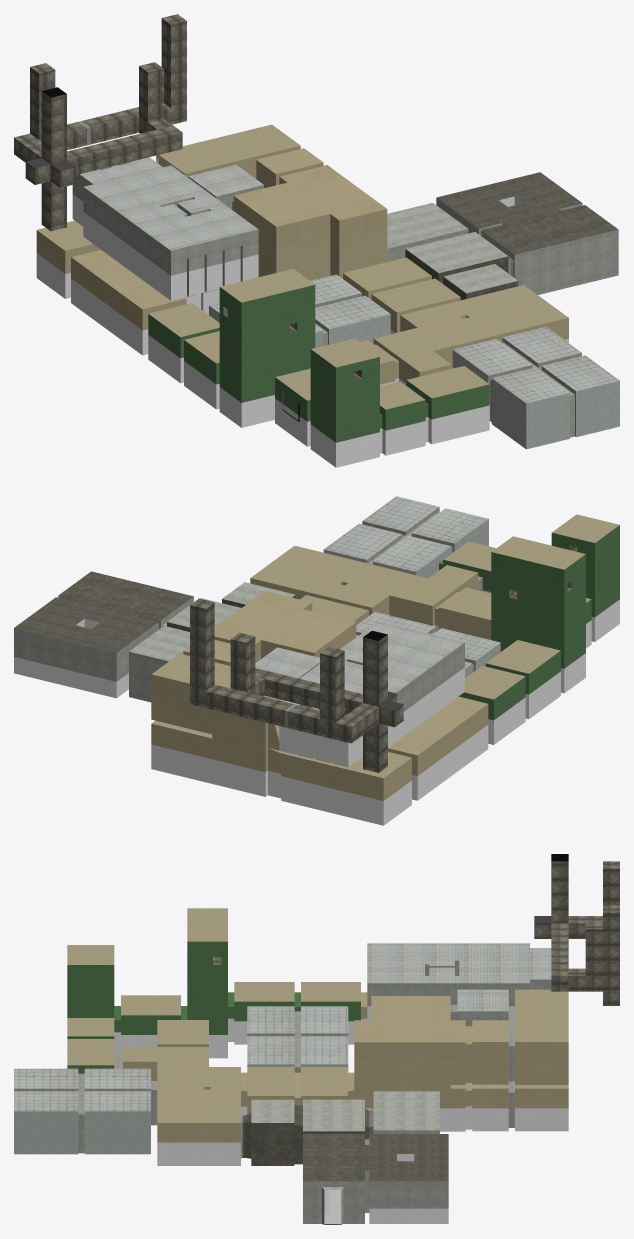
File: Map.FBX
The picture shows the model from 3 angles, top to bottom: view 1: azimuth 30°, elevation 25°; view 2: azimuth 150°, elevation 25°; view 3: azimuth 270°, elevation 25°; orthographic projection. The views are drawn at different scales.
Parts seen in each view (by area): view 1: VIFS017, VIFS408, VIFS030, VIFS449, VIFS546, VIFS485, VIFS422, VIFS029, VIFS624, tileswall, VIFS661, VIFS163 (+36 smaller); view 2: VIFS162, VIFS546, VIFS408, VIFS159, VIFS449, VIFS485, VIFS017, VIFS030, VIFS661, tileswall, VIFS306, VIFS660 (+32 smaller); view 3: VIFS017, VIFS030, Object003, VIFS449, VIFS485, VIFS529, VIFS546, VIFS408, VIFS661, VIFS162, VIFS625, VIFS163 (+36 smaller).
Boxes of the visible parts, bbox=[...] form: VIFS017: bbox=[233, 165, 387, 280]; VIFS408: bbox=[219, 285, 315, 402]; VIFS030: bbox=[80, 157, 258, 250]; VIFS449: bbox=[374, 285, 568, 356]; VIFS546: bbox=[14, 18, 186, 162]; VIFS485: bbox=[453, 326, 619, 403]; VIFS422: bbox=[310, 349, 382, 442]; VIFS029: bbox=[72, 174, 258, 275]; VIFS624: bbox=[481, 223, 618, 294]; tileswall: bbox=[72, 194, 258, 300]; VIFS661: bbox=[436, 172, 582, 228]; VIFS163: bbox=[37, 124, 299, 250]; VIFS162: bbox=[151, 653, 411, 800]; VIFS546: bbox=[190, 602, 378, 743]; VIFS408: bbox=[491, 552, 585, 668]; VIFS159: bbox=[151, 744, 411, 825]; VIFS449: bbox=[251, 545, 457, 607]; VIFS485: bbox=[324, 496, 488, 571]; VIFS017: bbox=[214, 591, 356, 662]; VIFS030: bbox=[281, 621, 464, 715]; VIFS661: bbox=[14, 597, 158, 652]; tileswall: bbox=[279, 667, 464, 767]; VIFS306: bbox=[388, 696, 488, 775]; VIFS660: bbox=[14, 622, 158, 681]; VIFS017: bbox=[348, 996, 465, 1108]; VIFS030: bbox=[367, 943, 551, 983]; Object003: bbox=[14, 1111, 150, 1154]; VIFS449: bbox=[157, 1047, 240, 1122]; VIFS485: bbox=[14, 1068, 150, 1111]; VIFS529: bbox=[247, 1006, 348, 1064]; VIFS546: bbox=[568, 868, 619, 1005]; VIFS408: bbox=[181, 941, 234, 1034]; VIFS661: bbox=[369, 1134, 448, 1181]; VIFS162: bbox=[515, 1042, 568, 1108]; VIFS625: bbox=[303, 1134, 369, 1181]; VIFS163: bbox=[515, 989, 568, 1088].
Bounding box in the file's own units: 30100 × 12892 × 37569.
